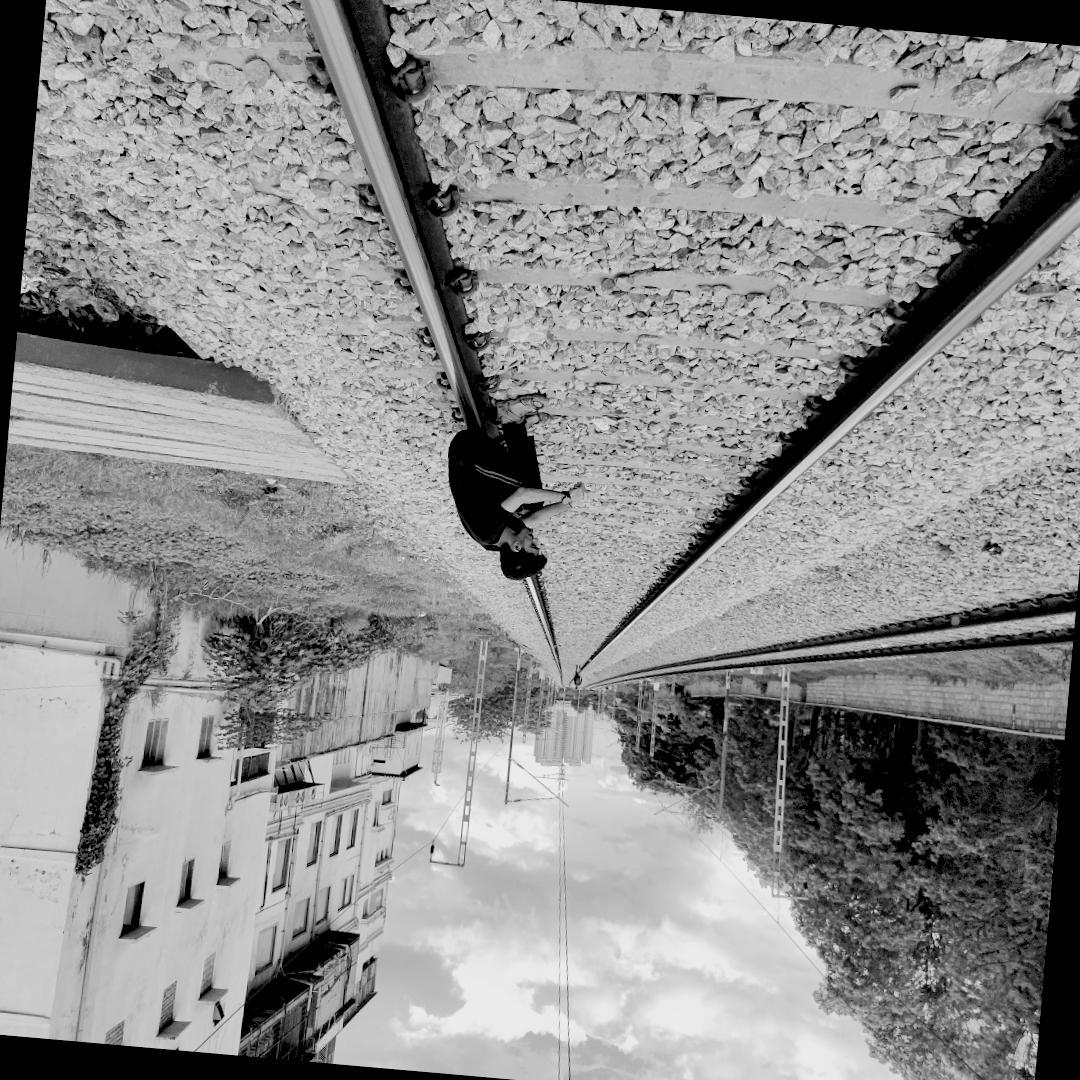sitting: (409, 366, 597, 590)
